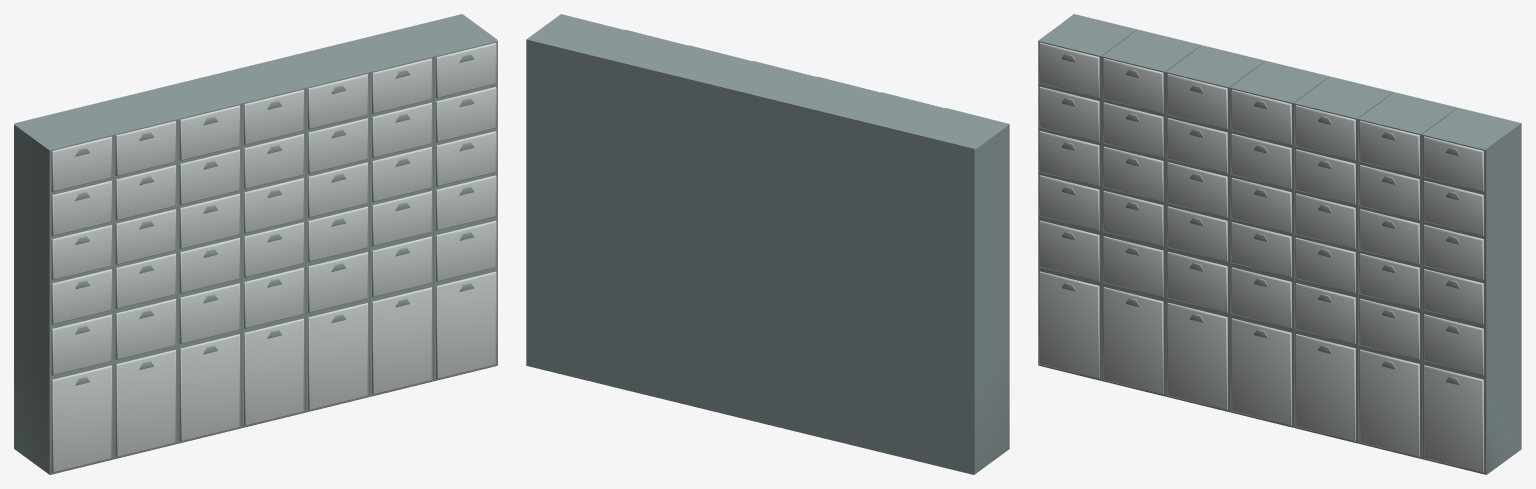
Rendered from Archive-Document-Cabinet.fbx.
3 renders of one model, left to right at view 1: azimuth 30°, elevation 25°; view 2: azimuth 150°, elevation 25°; view 3: azimuth 330°, elevation 25°, orthographic.
Visible parts, largest first — view 1: Archive-Document-Cabinet; view 2: Archive-Document-Cabinet; view 3: Archive-Document-Cabinet.
Part boxes in pixels (left/top/right/bottom): Archive-Document-Cabinet: left=14, top=14, right=497, bottom=474; Archive-Document-Cabinet: left=526, top=14, right=1009, bottom=474; Archive-Document-Cabinet: left=1038, top=14, right=1521, bottom=474.
Bounding box in the file's own units: 11.33 × 7.88 × 1.62.
